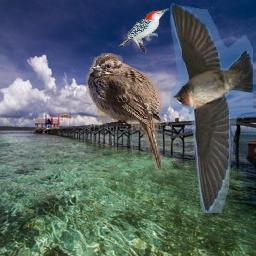Sparrow: (86, 54, 162, 171)
Swallow: (171, 3, 254, 213)
Woodpecker: (117, 9, 169, 54)
